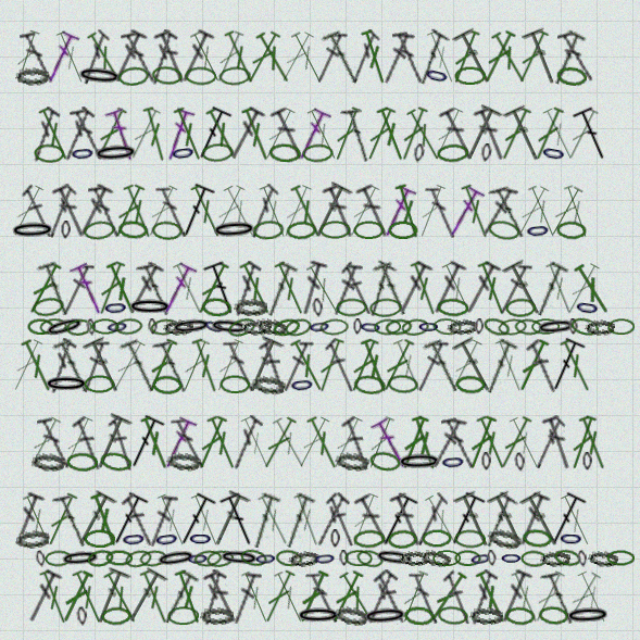chain: (52, 303, 91, 327), (82, 74, 125, 94), (97, 145, 140, 165), (345, 571, 388, 591), (206, 216, 249, 235), (532, 571, 574, 590), (459, 498, 493, 521), (155, 518, 193, 538), (21, 217, 63, 235), (377, 430, 419, 448), (169, 305, 207, 324), (356, 518, 394, 537), (129, 288, 171, 305), (52, 359, 94, 376), (284, 572, 326, 589), (319, 570, 352, 591), (204, 306, 242, 324), (505, 306, 543, 324), (67, 519, 105, 537), (460, 215, 491, 237), (103, 428, 134, 450), (41, 286, 72, 307), (351, 428, 382, 449), (213, 519, 251, 536), (243, 358, 275, 378), (26, 500, 58, 520), (220, 304, 249, 326), (88, 216, 119, 236), (455, 304, 483, 326), (165, 429, 197, 448), (320, 429, 352, 448), (120, 74, 150, 94), (523, 74, 553, 94), (337, 358, 367, 378), (536, 304, 564, 325), (197, 145, 227, 164), (259, 145, 289, 164), (244, 216, 274, 235), (247, 305, 277, 324), (398, 518, 428, 537), (26, 75, 57, 93), (41, 430, 72, 448), (151, 74, 180, 93), (120, 216, 149, 235), (197, 287, 226, 306), (368, 358, 397, 377), (492, 500, 521, 519), (383, 571, 412, 590), (414, 571, 443, 590), (507, 571, 536, 590), (401, 73, 427, 94), (213, 75, 243, 93), (352, 288, 382, 306), (262, 305, 289, 325), (273, 305, 300, 325), (126, 518, 153, 538), (339, 518, 366, 538), (227, 288, 258, 305), (196, 572, 227, 589), (444, 572, 475, 589), (182, 75, 211, 93), (290, 146, 319, 164), (414, 146, 443, 164), (151, 217, 180, 235), (275, 217, 304, 235), (321, 288, 350, 306), (414, 288, 443, 306), (73, 430, 102, 448), (337, 501, 366, 519), (368, 501, 397, 519), (430, 501, 459, 519), (277, 519, 306, 537), (476, 572, 505, 590), (91, 518, 118, 537), (232, 518, 259, 537), (521, 518, 548, 537), (43, 146, 71, 164), (524, 217, 552, 235), (477, 288, 505, 306), (197, 304, 221, 325), (152, 359, 180, 377), (431, 359, 459, 377), (105, 572, 133, 590), (509, 145, 534, 165), (540, 287, 565, 307), (153, 500, 178, 520), (430, 75, 459, 92), (306, 217, 335, 234), (337, 217, 366, 234), (423, 306, 452, 323), (89, 359, 118, 376), (89, 501, 118, 518), (166, 572, 195, 589), (150, 306, 177, 324), (470, 306, 497, 324), (190, 519, 217, 537), (201, 519, 228, 537), (369, 217, 397, 234), (214, 359, 242, 376), (400, 501, 428, 518), (168, 145, 193, 164), (72, 306, 98, 324), (366, 306, 392, 324), (381, 306, 407, 324), (140, 519, 166, 537), (117, 306, 144, 323), (410, 306, 437, 323), (162, 307, 190, 323), (234, 307, 262, 323), (550, 307, 578, 323), (509, 520, 537, 536), (553, 520, 581, 536), (48, 306, 74, 323), (265, 519, 291, 536), (76, 146, 100, 164), (495, 217, 519, 235), (306, 307, 333, 323), (485, 307, 512, 323), (278, 359, 302, 377), (417, 430, 441, 448), (123, 501, 147, 519), (379, 520, 407, 535), (107, 288, 130, 306), (443, 519, 466, 537), (356, 307, 381, 323), (53, 520, 78, 536), (491, 520, 516, 536), (185, 501, 208, 518), (526, 501, 549, 518), (96, 307, 122, 322), (501, 307, 527, 322), (329, 520, 355, 535), (410, 520, 436, 535), (570, 520, 596, 535), (37, 307, 62, 322), (571, 307, 596, 322), (109, 520, 134, 535), (430, 520, 455, 535), (109, 306, 131, 323), (295, 306, 317, 323), (342, 307, 364, 323), (183, 520, 205, 536), (300, 520, 322, 536), (246, 520, 267, 536), (396, 307, 417, 322), (472, 520, 493, 535), (392, 146, 403, 164), (299, 288, 310, 306), (485, 430, 496, 448), (82, 572, 93, 590), (454, 146, 465, 163), (44, 520, 55, 536), (91, 307, 101, 323), (543, 520, 553, 536), (68, 217, 77, 234), (455, 430, 464, 447), (548, 430, 557, 447), (316, 501, 325, 518), (148, 307, 157, 322), (535, 307, 544, 322), (324, 520, 333, 535), (460, 520, 469, 535), (337, 307, 345, 322), (449, 307, 457, 322)
double: (123, 536, 167, 591), (428, 39, 471, 94), (474, 252, 517, 307), (428, 323, 471, 378), (77, 465, 120, 520), (490, 465, 533, 520), (295, 181, 337, 236), (434, 110, 475, 165), (475, 110, 516, 165), (88, 323, 129, 378), (109, 465, 150, 520), (202, 465, 243, 520), (429, 465, 470, 520), (460, 465, 501, 520), (512, 465, 553, 520), (171, 466, 212, 520), (357, 466, 398, 520), (187, 110, 227, 165), (234, 323, 274, 378), (94, 394, 134, 449), (125, 394, 165, 449), (420, 465, 460, 520), (155, 537, 196, 590), (492, 39, 531, 94), (538, 110, 577, 165), (513, 323, 552, 378), (213, 465, 252, 520), (94, 536, 133, 591), (403, 538, 445, 589), (537, 254, 578, 306), (461, 182, 500, 236), (173, 181, 211, 236), (89, 41, 129, 93), (244, 41, 284, 93), (461, 41, 501, 93), (290, 254, 330, 306), (399, 467, 439, 519), (321, 538, 361, 590), (528, 538, 568, 590), (307, 40, 345, 94), (514, 40, 552, 94), (498, 253, 536, 307), (59, 324, 97, 378), (400, 324, 438, 378), (452, 466, 490, 520), (198, 252, 235, 307), (234, 41, 273, 93), (265, 41, 304, 93), (383, 112, 422, 164), (420, 183, 459, 235), (482, 183, 521, 235), (513, 183, 552, 235), (125, 254, 164, 306), (528, 254, 567, 306), (110, 325, 149, 377), (249, 396, 288, 448), (259, 396, 298, 448), (352, 396, 391, 448), (337, 467, 376, 519), (104, 538, 143, 590), (183, 40, 221, 93), (276, 40, 314, 93), (452, 40, 490, 93), (198, 111, 236, 164), (219, 111, 257, 164), (415, 111, 453, 164), (18, 182, 56, 235), (214, 182, 252, 235), (33, 253, 71, 306), (188, 253, 226, 306), (436, 253, 474, 306), (276, 324, 314, 377), (421, 324, 459, 377), (33, 395, 71, 448), (281, 395, 319, 448), (467, 395, 505, 448), (245, 466, 283, 519), (198, 537, 236, 590), (250, 253, 287, 307), (121, 324, 158, 378), (152, 324, 189, 378), (452, 324, 489, 378), (95, 111, 132, 164), (126, 111, 163, 164), (250, 111, 287, 164), (260, 111, 297, 164), (281, 111, 318, 164), (291, 111, 328, 164), (508, 111, 545, 164), (529, 111, 566, 164), (59, 182, 96, 235), (80, 182, 117, 235), (142, 182, 179, 235), (204, 182, 241, 235), (276, 182, 313, 235), (328, 182, 365, 235), (157, 253, 194, 306), (167, 253, 204, 306), (229, 253, 266, 306), (374, 253, 411, 306), (415, 253, 452, 306), (18, 324, 55, 377), (28, 324, 65, 377), (359, 324, 396, 377), (524, 324, 561, 377), (291, 395, 328, 448), (477, 395, 514, 448), (524, 466, 561, 519), (33, 537, 70, 590), (64, 537, 101, 590), (250, 537, 287, 590), (260, 537, 297, 590), (312, 537, 349, 590), (446, 537, 483, 590), (498, 537, 535, 590), (391, 40, 427, 94), (137, 253, 173, 307), (354, 253, 390, 307), (60, 466, 96, 520), (267, 466, 303, 520), (509, 537, 545, 591), (297, 467, 335, 518), (50, 40, 86, 93), (112, 40, 148, 93), (174, 40, 210, 93), (215, 40, 251, 93), (484, 40, 520, 93), (44, 111, 80, 164), (406, 111, 442, 164), (468, 111, 504, 164), (112, 182, 148, 235), (184, 182, 220, 235), (339, 182, 375, 235), (360, 182, 396, 235), (75, 253, 111, 306), (106, 253, 142, 306), (261, 253, 297, 306), (406, 253, 442, 306), (484, 324, 520, 377), (65, 395, 101, 448), (158, 395, 194, 448), (230, 395, 266, 448), (313, 395, 349, 448), (29, 466, 65, 519), (50, 466, 86, 519), (75, 537, 111, 590), (282, 537, 318, 590), (540, 537, 576, 590), (452, 183, 489, 234), (60, 40, 95, 93), (153, 40, 188, 93), (205, 40, 240, 93), (401, 40, 436, 93), (168, 111, 203, 164), (344, 111, 379, 164), (447, 111, 482, 164), (499, 111, 534, 164), (122, 182, 157, 235), (267, 182, 302, 235), (308, 182, 343, 235), (494, 182, 529, 235), (143, 324, 178, 377), (174, 324, 209, 377), (205, 324, 240, 377), (329, 324, 364, 377), (370, 324, 405, 377), (189, 395, 224, 448), (199, 395, 234, 448), (447, 395, 482, 448), (153, 466, 188, 519), (184, 466, 219, 519), (370, 466, 405, 519), (137, 537, 172, 590), (230, 537, 265, 590), (468, 537, 503, 590), (478, 537, 513, 590), (45, 253, 79, 307), (406, 396, 442, 447), (237, 466, 271, 520), (423, 40, 457, 93), (231, 111, 265, 164), (314, 111, 348, 164), (355, 111, 389, 164), (247, 182, 281, 235), (392, 182, 426, 235), (433, 182, 467, 235), (97, 253, 131, 306), (448, 253, 482, 306), (510, 253, 544, 306), (340, 324, 374, 377), (464, 324, 498, 377), (138, 395, 172, 448), (345, 395, 379, 448), (376, 395, 410, 448), (438, 395, 472, 448), (541, 395, 575, 448), (20, 466, 54, 519), (330, 466, 364, 519), (485, 466, 519, 519), (45, 537, 79, 590), (376, 537, 410, 590), (525, 41, 560, 92), (65, 112, 100, 163), (220, 396, 255, 447), (122, 467, 157, 518), (391, 467, 426, 518), (344, 538, 379, 589), (354, 538, 389, 589), (345, 253, 378, 307), (123, 41, 157, 93), (376, 111, 409, 164), (386, 253, 419, 306), (185, 324, 218, 377), (510, 395, 543, 448), (92, 466, 125, 519), (278, 466, 311, 519), (169, 537, 202, 590), (30, 183, 64, 234), (324, 254, 358, 305), (169, 396, 203, 447), (500, 396, 534, 447), (325, 111, 357, 165), (30, 41, 63, 93), (361, 41, 394, 93), (76, 112, 109, 164), (495, 325, 528, 377), (108, 111, 140, 164), (160, 111, 192, 164), (527, 182, 559, 235), (300, 324, 332, 377), (387, 395, 419, 448), (532, 395, 564, 448), (469, 254, 502, 305), (309, 325, 342, 376), (293, 538, 326, 589), (36, 112, 68, 164), (46, 396, 78, 448), (77, 396, 109, 448), (418, 396, 450, 448), (439, 538, 471, 590), (21, 40, 52, 93), (341, 40, 372, 93), (372, 182, 403, 235), (300, 41, 332, 92), (331, 41, 363, 92), (52, 183, 84, 234), (155, 183, 187, 234), (238, 183, 270, 234), (67, 254, 99, 305), (217, 325, 249, 376), (269, 325, 301, 376), (393, 325, 425, 376), (310, 467, 342, 518), (145, 41, 176, 93), (93, 183, 124, 235), (403, 183, 434, 235), (222, 254, 253, 306), (315, 254, 346, 306), (52, 325, 83, 377), (325, 396, 356, 448), (418, 538, 449, 590), (140, 111, 170, 164), (84, 41, 114, 93), (373, 41, 403, 93), (249, 325, 279, 377), (146, 467, 176, 519), (223, 538, 253, 590), (388, 538, 418, 590), (285, 253, 314, 306), (85, 325, 113, 377), (110, 396, 138, 448), (193, 538, 221, 590)
